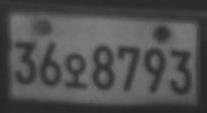3: (169, 49, 193, 95), (14, 40, 37, 85)
6: (39, 43, 62, 87)
7: (117, 45, 140, 91)
8: (92, 45, 115, 89)
9: (142, 46, 166, 92)
오: (65, 52, 87, 90)
